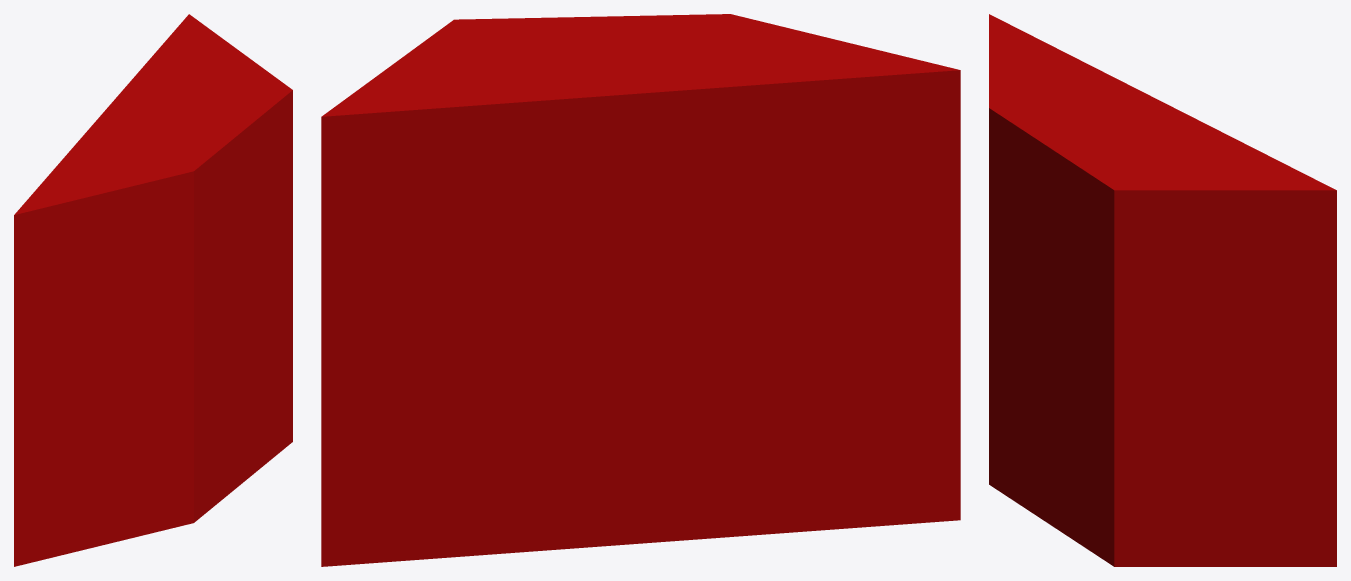
The model's file is UCX_tunnelWallConcaveA_02.fbx.
The picture shows the model from 3 angles, left to right: view 1: azimuth 30°, elevation 25°; view 2: azimuth 150°, elevation 25°; view 3: azimuth 270°, elevation 25°; orthographic projection. The views are drawn at different scales.
Parts seen in each view (by area): view 1: UCX_tunnelWallConcaveA_02; view 2: UCX_tunnelWallConcaveA_02; view 3: UCX_tunnelWallConcaveA_02.
Boxes of the visible parts, x1=… form: UCX_tunnelWallConcaveA_02: x1=14, y1=14, x2=292, y2=566; UCX_tunnelWallConcaveA_02: x1=321, y1=14, x2=960, y2=566; UCX_tunnelWallConcaveA_02: x1=989, y1=14, x2=1336, y2=566.
Bounding box in the file's own units: 3.02 × 3.01 × 2.52.
